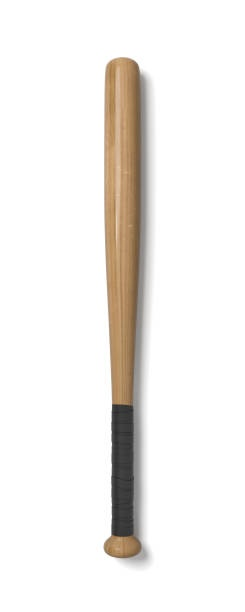bita: (93, 54, 142, 557)
